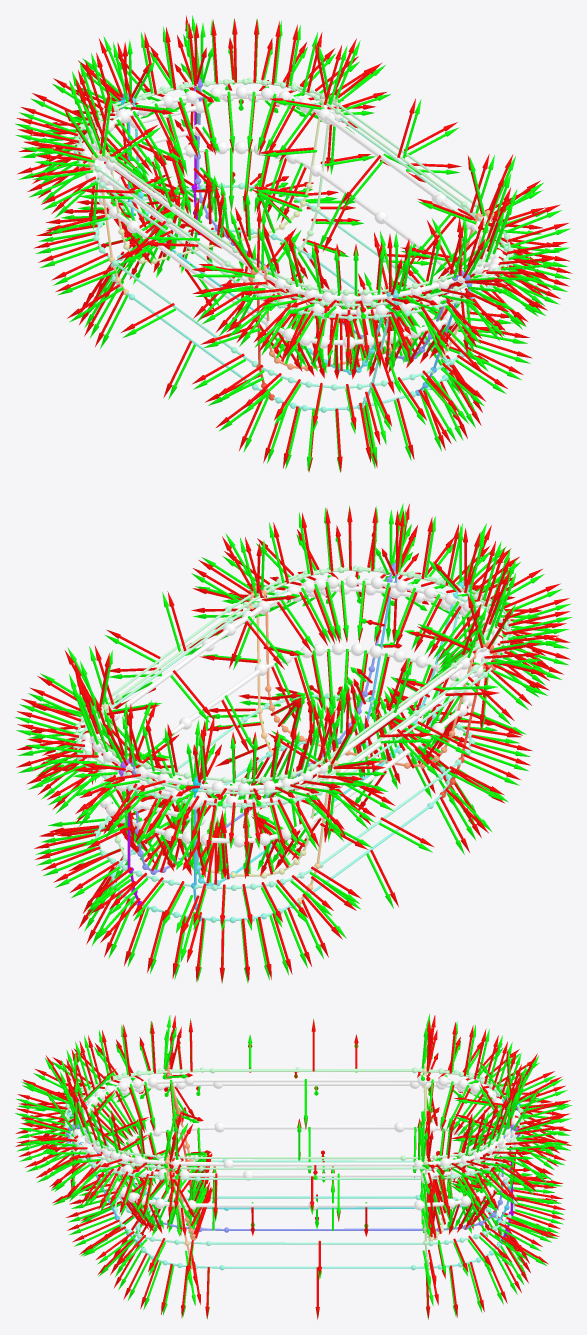
Rendered from flowrep_bathtub.gltf.
3 views of the same model, one above another, from view 1: azimuth 30°, elevation 25°; view 2: azimuth 150°, elevation 25°; view 3: azimuth 270°, elevation 25° (orthographic). The views are drawn at different scales.
Size of the model in its own units: 0.6383 by 0.438 by 1.05.
